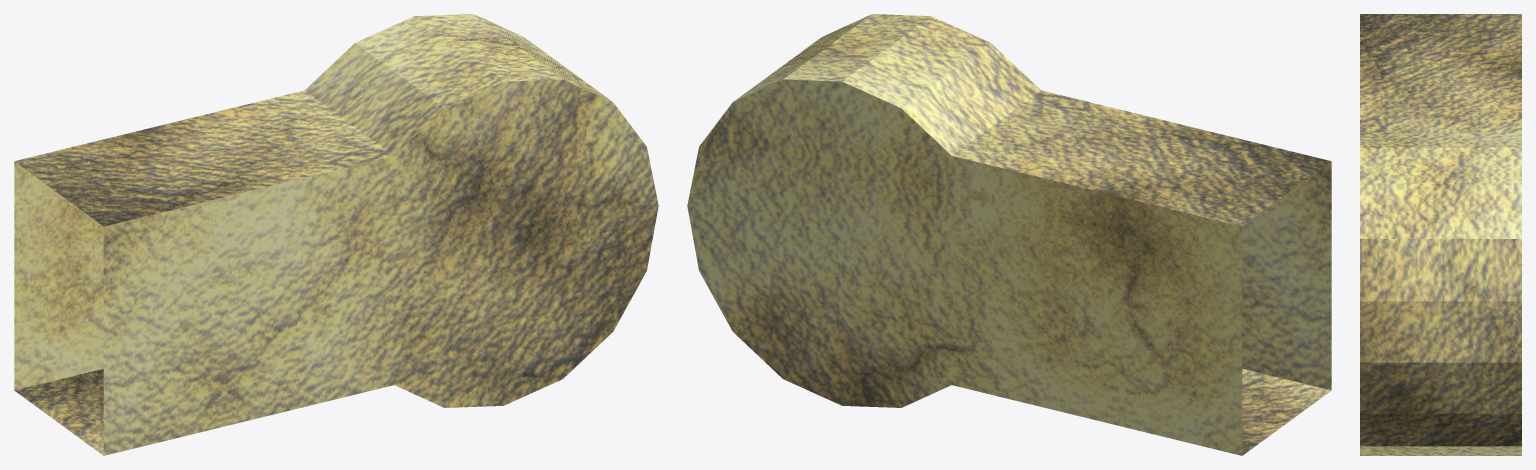
File: hip.dae
3 renders of one model, left to right at view 1: azimuth 30°, elevation 25°; view 2: azimuth 150°, elevation 25°; view 3: azimuth 270°, elevation 25°, orthographic. The views are drawn at different scales.
Parts seen in each view (by area): view 1: Body_Abdomen; view 2: Body_Abdomen; view 3: Body_Abdomen.
Boxes of the visible parts, box(x1,y1,x2,y2) form: Body_Abdomen: box(14, 14, 658, 455); Body_Abdomen: box(687, 14, 1331, 455); Body_Abdomen: box(1360, 14, 1521, 455).
Size of the model in its own units: 0.5731 by 0.16 by 0.32.
1 material, 1 textured.
